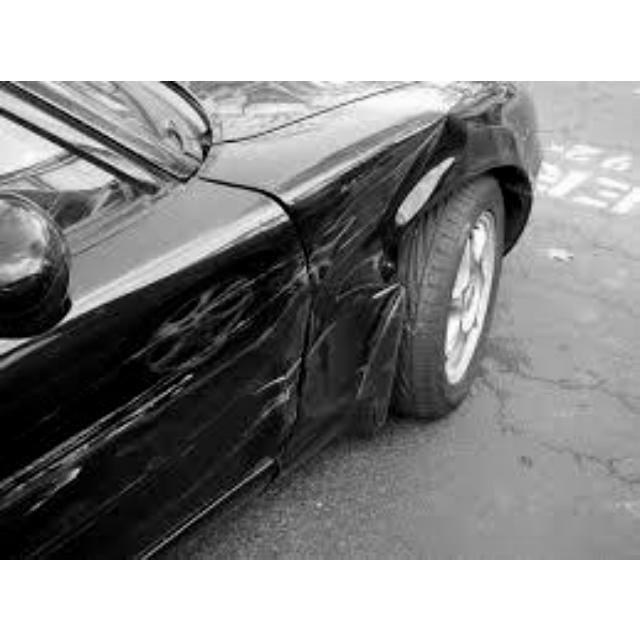doorouter-dent: (42, 266, 284, 525)
fender-dent: (314, 118, 425, 419)
